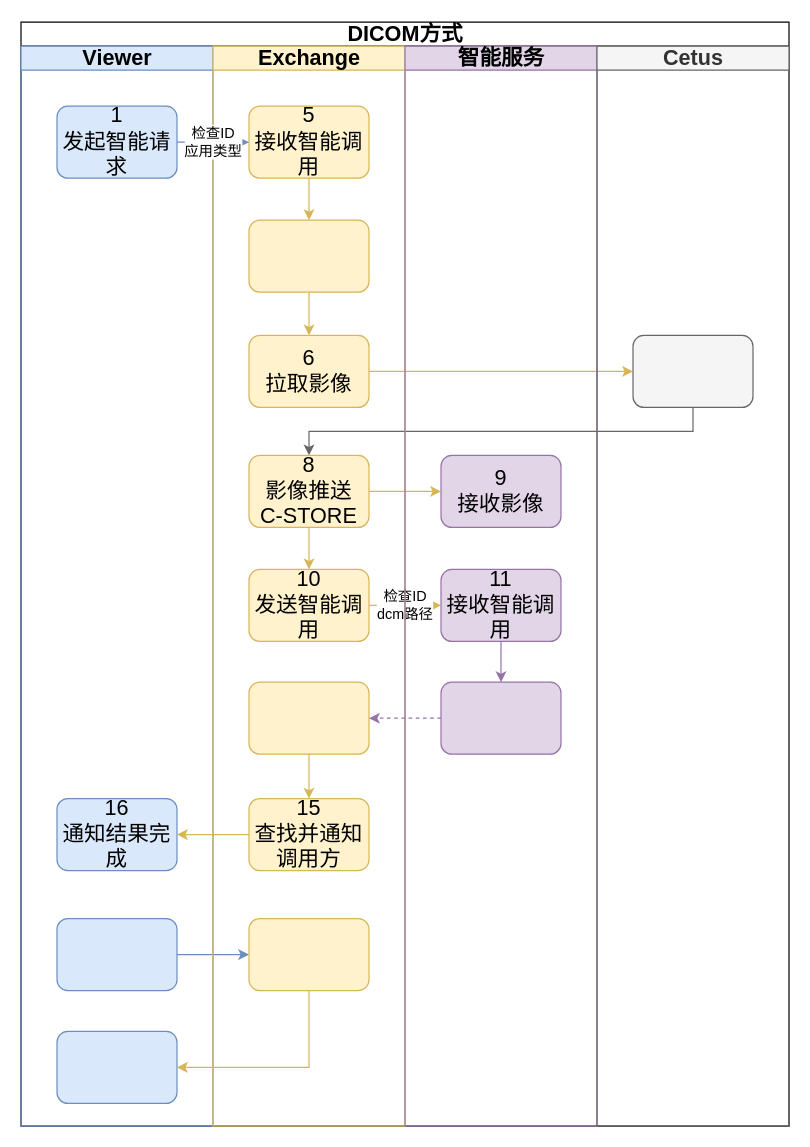
The diagram is 810 pixels wide and 1147 high, and some of its shapes have lost their labels. The centre of each missing label's shape, as x and y in pixels:
1 请求结果查看: the point at 116,954
13 返回智能计算结果: the point at 500,717
14 保存智能计算结果: the point at 308,717
2 结果调阅: the point at 308,954
3 返回结果查看: the point at 116,1066
6 记录调用方 生成异步请求: the point at 308,255
7 影像调阅服务: the point at 692,370
